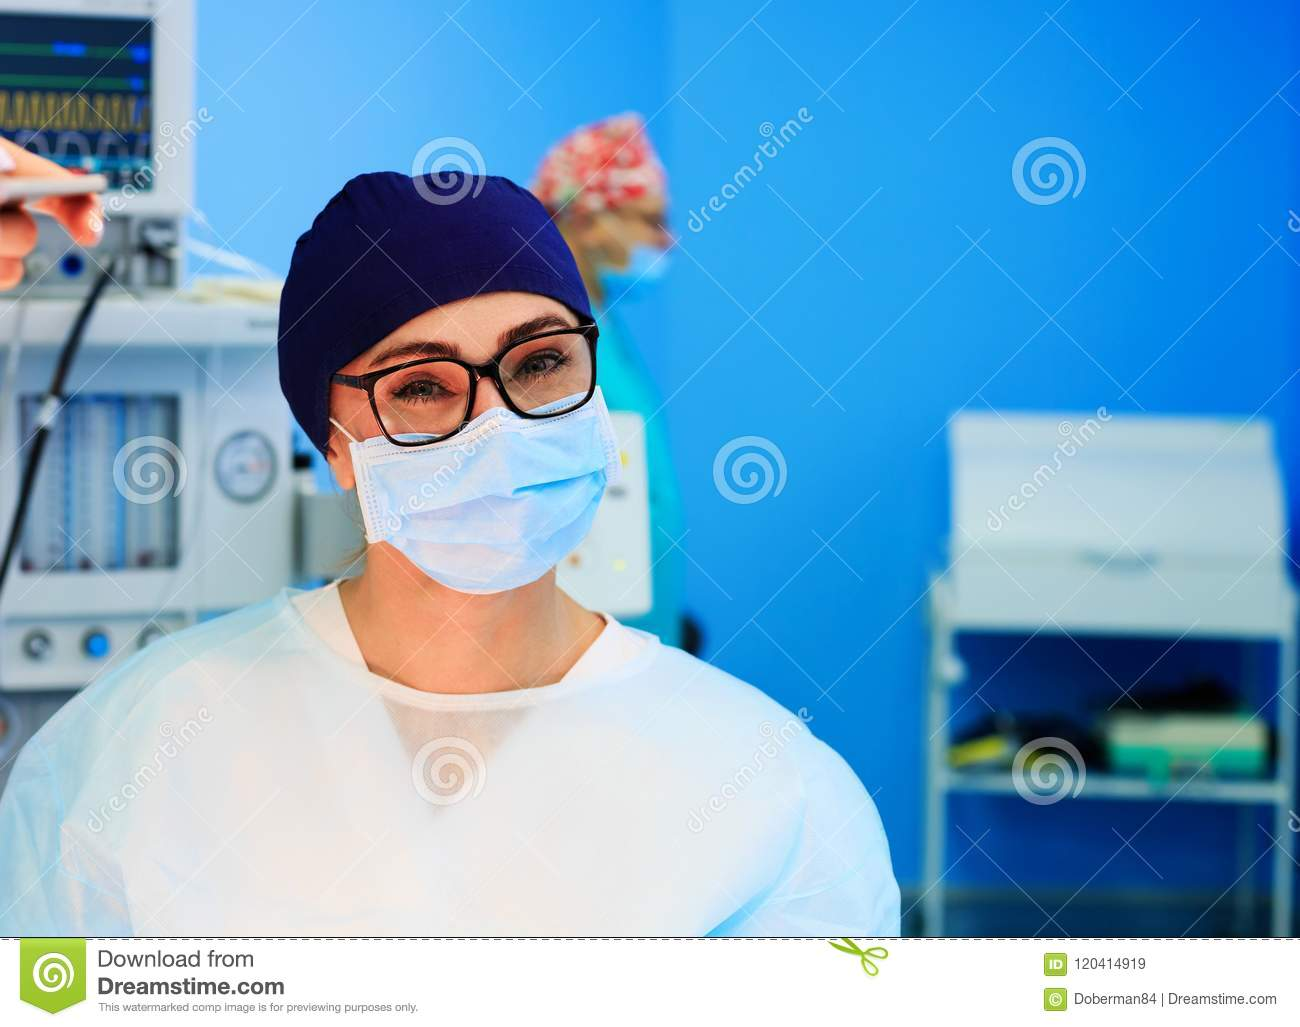mask: (322, 393, 636, 595)
